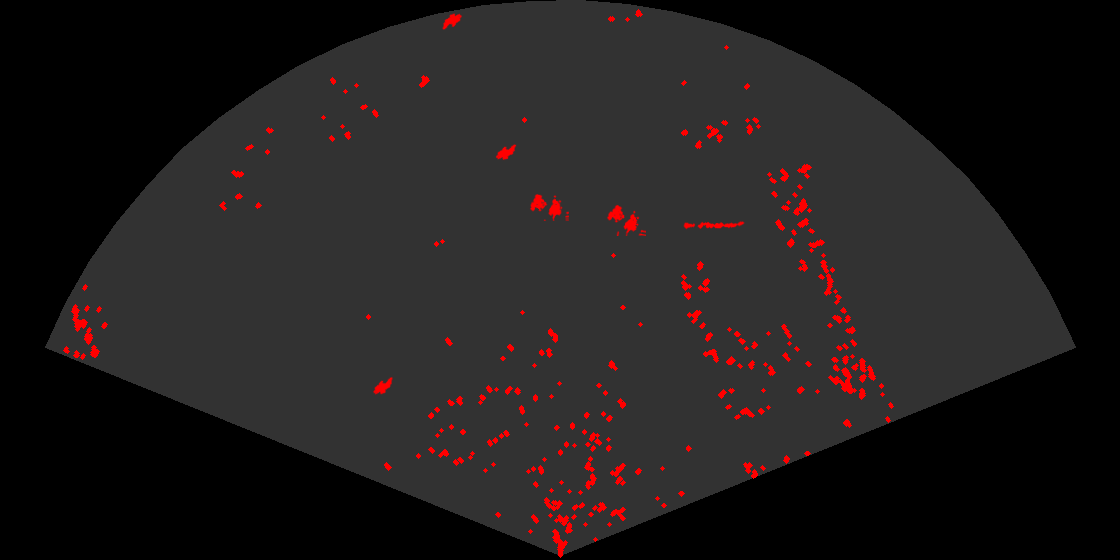AUV: (372, 375, 394, 396), (494, 143, 518, 162), (441, 12, 464, 31)
cage: (605, 203, 646, 236), (528, 193, 569, 221)
chain: (683, 220, 745, 231)
